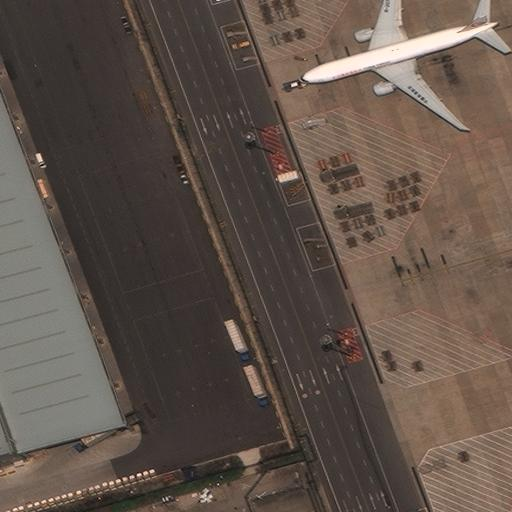Large Civil Transport: (297, 0, 497, 126)
